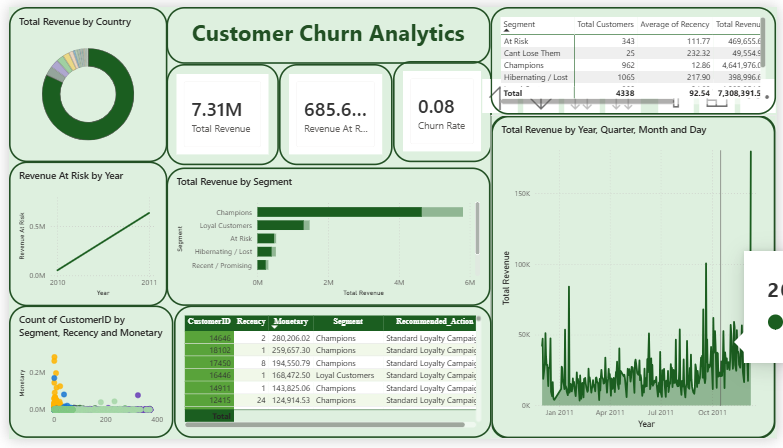

Layout of this report page (visuals, bound fields, positions):
{"tool":"powerbi","page":{"name":"Executive Overview","canvas":[1280,720],"ordinal":0},"visuals":[{"type":"cardVisual","fields":{"Data":["cleaned_online_retail.Total Revenue"]},"box":[570,60,152,186],"z":0},{"type":"cardVisual","fields":{"Data":["rfm_customer_segments (2).Revenue At Risk"]},"box":[570,246,316,186],"z":1000},{"type":"cardVisual","fields":{"Data":["rfm_customer_segments (2).Churn Rate Pct"]},"box":[714,60,172,186],"z":2000},{"type":"areaChart","fields":{"Y":["cleaned_online_retail.Total Revenue"],"Category":["cleaned_online_retail.InvoiceDate.Variation.Date Hierarchy.Year","cleaned_online_retail.InvoiceDate.Variation.Date Hierarchy.Quarter","cleaned_online_retail.InvoiceDate.Variation.Date Hierarchy.Month","cleaned_online_retail.InvoiceDate.Variation.Date Hierarchy.Day"]},"box":[900.7,0,378.6,455.1],"z":3000},{"type":"donutChart","fields":{"Category":["cleaned_online_retail.Country"],"Y":["cleaned_online_retail.Total Revenue"]},"box":[0,0,516,418],"z":4000},{"type":"lineChart","fields":{"Category":["cleaned_online_retail.InvoiceDate.Variation.Date Hierarchy.Year","cleaned_online_retail.InvoiceDate.Variation.Date Hierarchy.Quarter","cleaned_online_retail.InvoiceDate.Variation.Date Hierarchy.Month","cleaned_online_retail.InvoiceDate.Variation.Date Hierarchy.Day"],"Y":["rfm_customer_segments (2).Revenue At Risk"]},"box":[0,418.8,1279.4,300.2],"z":5000}]}

Visuals, with their boxes in screenshot pixels (x1, y1, x2, y2), scaled from the page's 1280x720 canvas onto the 783x448 screenshot:
cardVisual - cleaned_online_retail.Total Revenue: {"left": 349, "top": 37, "right": 442, "bottom": 153}
cardVisual - rfm_customer_segments (2).Revenue At Risk: {"left": 349, "top": 153, "right": 542, "bottom": 269}
cardVisual - rfm_customer_segments (2).Churn Rate Pct: {"left": 437, "top": 37, "right": 542, "bottom": 153}
areaChart - cleaned_online_retail.Total Revenue x cleaned_online_retail.InvoiceDate.Variation.Date Hierarchy.Year: {"left": 551, "top": 0, "right": 782, "bottom": 283}
donutChart - cleaned_online_retail.Country x cleaned_online_retail.Total Revenue: {"left": 0, "top": 0, "right": 316, "bottom": 260}
lineChart - cleaned_online_retail.InvoiceDate.Variation.Date Hierarchy.Year x cleaned_online_retail.InvoiceDate.Variation.Date Hierarchy.Quarter: {"left": 0, "top": 261, "right": 782, "bottom": 447}
